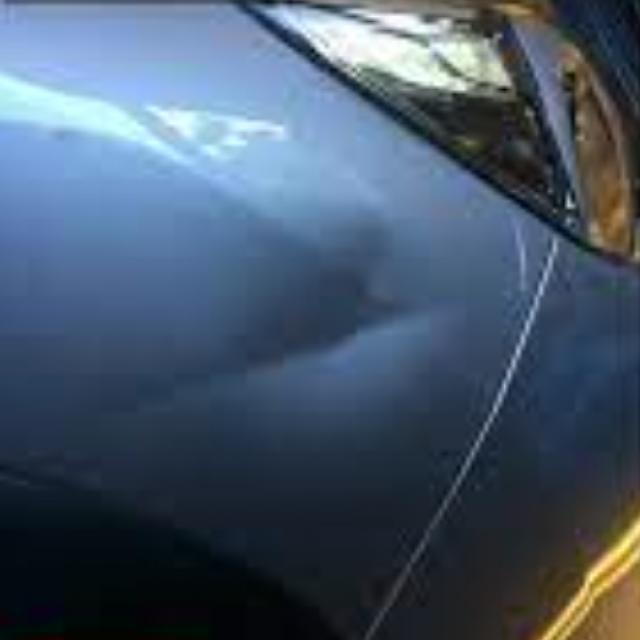dents: (128, 192, 430, 407)
